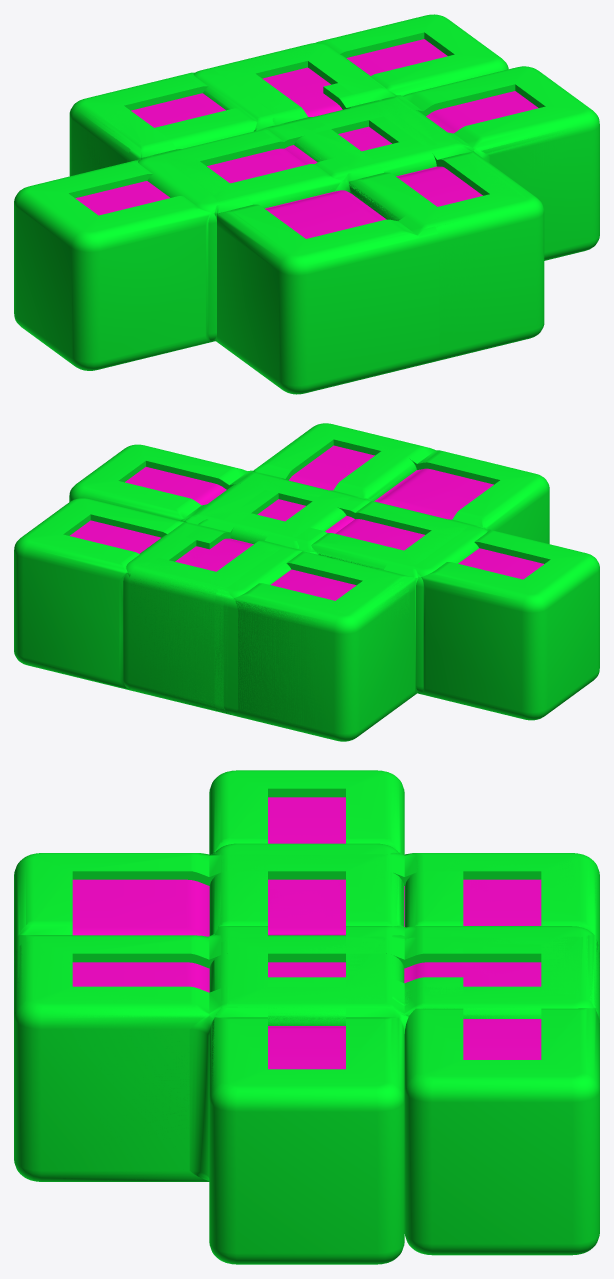
The model's file is KHOI CO VO.fbx.
3 renders of one model, top to bottom at view 1: azimuth 30°, elevation 25°; view 2: azimuth 150°, elevation 25°; view 3: azimuth 270°, elevation 25°, orthographic. The views are drawn at different scales.
Visible parts, largest first — view 1: 12.002, 6.002, 4.002, 10.002, 11.002, 9.002, 8.002, 5.002, 2.002, 3.002, 1.002, 7.002; view 2: 8.002, 12.002, 10.002, 6.002, 2.002, 11.002, 4.002, 5.002, 7.002, 9.002, 3.002, 1.002; view 3: 10.002, 12.002, 11.002, 4.002, 5.002, 6.002, 2.002, 8.002, 9.002, 1.002, 3.002, 7.002.
Part boxes in pixels (left/top/right/bottom): 12.002: left=69, top=43, right=544, bottom=394; 6.002: left=14, top=105, right=533, bottom=370; 4.002: left=297, top=99, right=544, bottom=360; 10.002: left=138, top=14, right=508, bottom=340; 11.002: left=207, top=48, right=599, bottom=260; 9.002: left=69, top=43, right=599, bottom=260; 8.002: left=70, top=43, right=434, bottom=208; 5.002: left=169, top=43, right=532, bottom=241; 2.002: left=216, top=43, right=432, bottom=166; 3.002: left=162, top=66, right=452, bottom=207; 1.002: left=292, top=99, right=456, bottom=170; 7.002: left=18, top=132, right=403, bottom=368; 8.002: left=123, top=480, right=444, bottom=741; 12.002: left=123, top=423, right=549, bottom=741; 10.002: left=14, top=490, right=487, bottom=714; 6.002: left=211, top=440, right=599, bottom=720; 2.002: left=124, top=479, right=342, bottom=710; 11.002: left=69, top=430, right=466, bottom=585; 4.002: left=129, top=423, right=418, bottom=708; 5.002: left=129, top=423, right=466, bottom=588; 7.002: left=272, top=483, right=596, bottom=717; 9.002: left=76, top=445, right=409, bottom=739; 3.002: left=175, top=475, right=465, bottom=569; 1.002: left=199, top=474, right=347, bottom=543; 10.002: left=214, top=843, right=599, bottom=1255; 12.002: left=14, top=853, right=599, bottom=1181; 11.002: left=27, top=857, right=584, bottom=1264; 4.002: left=14, top=935, right=599, bottom=1181; 5.002: left=14, top=854, right=587, bottom=1025; 6.002: left=43, top=770, right=404, bottom=1179; 2.002: left=219, top=935, right=599, bottom=1025; 8.002: left=209, top=853, right=599, bottom=1025; 9.002: left=209, top=853, right=599, bottom=1264; 1.002: left=218, top=935, right=404, bottom=1025; 3.002: left=209, top=854, right=541, bottom=1025; 7.002: left=209, top=770, right=404, bottom=996.
Bounding box in the file's own units: 200 × 50 × 150.
